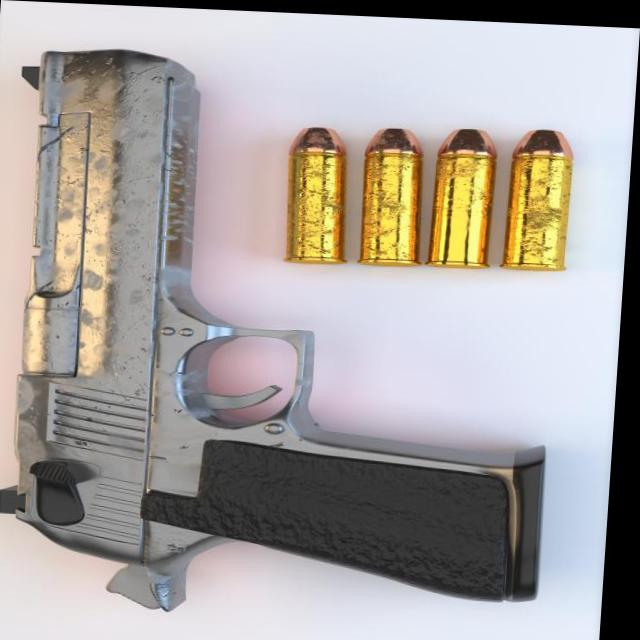handgun: (0, 42, 589, 640)
